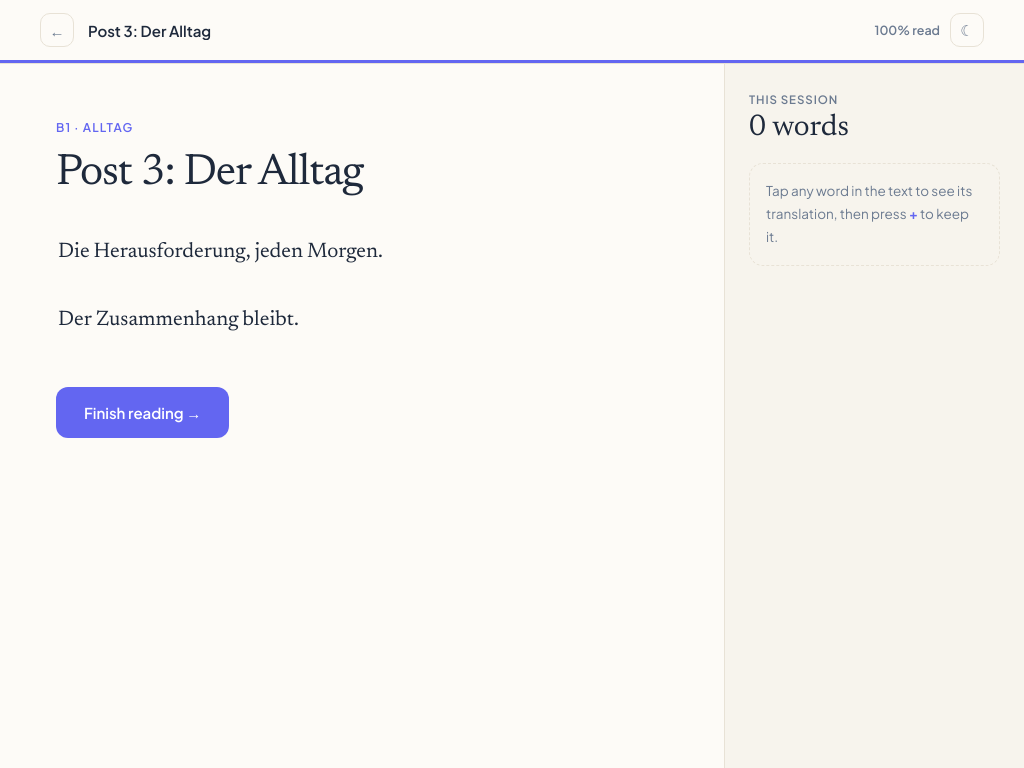
Test: tapping a word › shows a dash even for a word the deleted bundled copy knew
Click the text "Zusammenhang". click: (167, 321)
box: [96,310,239,331]
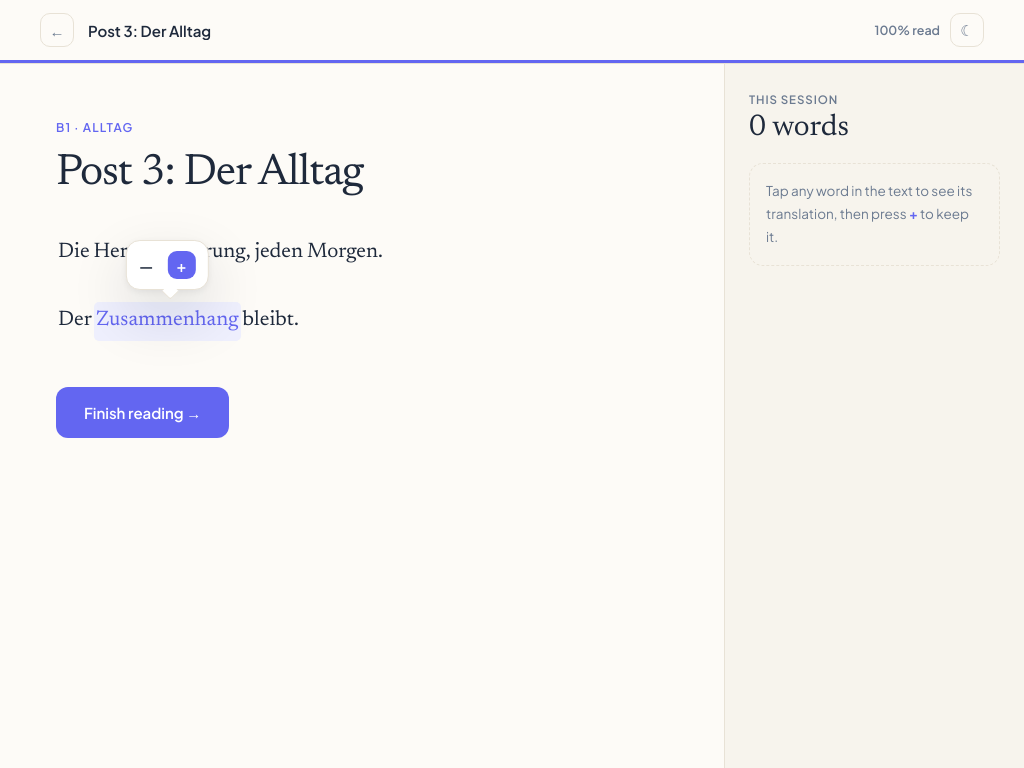
Now the text "—" is shown, box [139,256,153,275]
